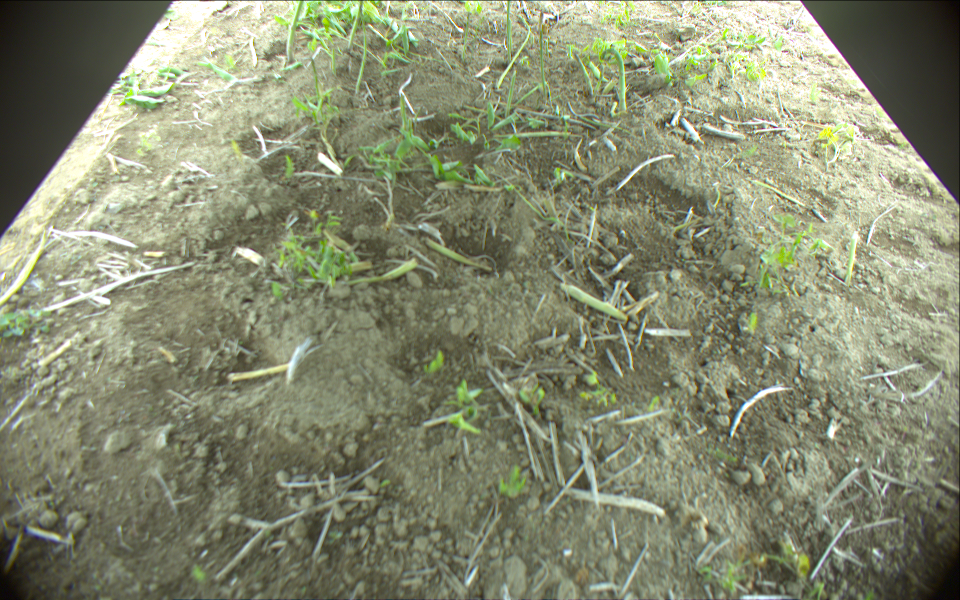aspa: (2, 229, 47, 309), (297, 259, 417, 285), (497, 14, 532, 86), (560, 282, 624, 321), (423, 237, 494, 272), (747, 176, 805, 209), (601, 47, 626, 113), (356, 1, 369, 93), (285, 1, 302, 63), (539, 13, 548, 101), (497, 131, 574, 141), (571, 53, 592, 88), (845, 232, 858, 284), (347, 1, 361, 47), (505, 69, 517, 118), (460, 13, 472, 56), (309, 57, 319, 104), (504, 1, 511, 59), (596, 63, 604, 91)
